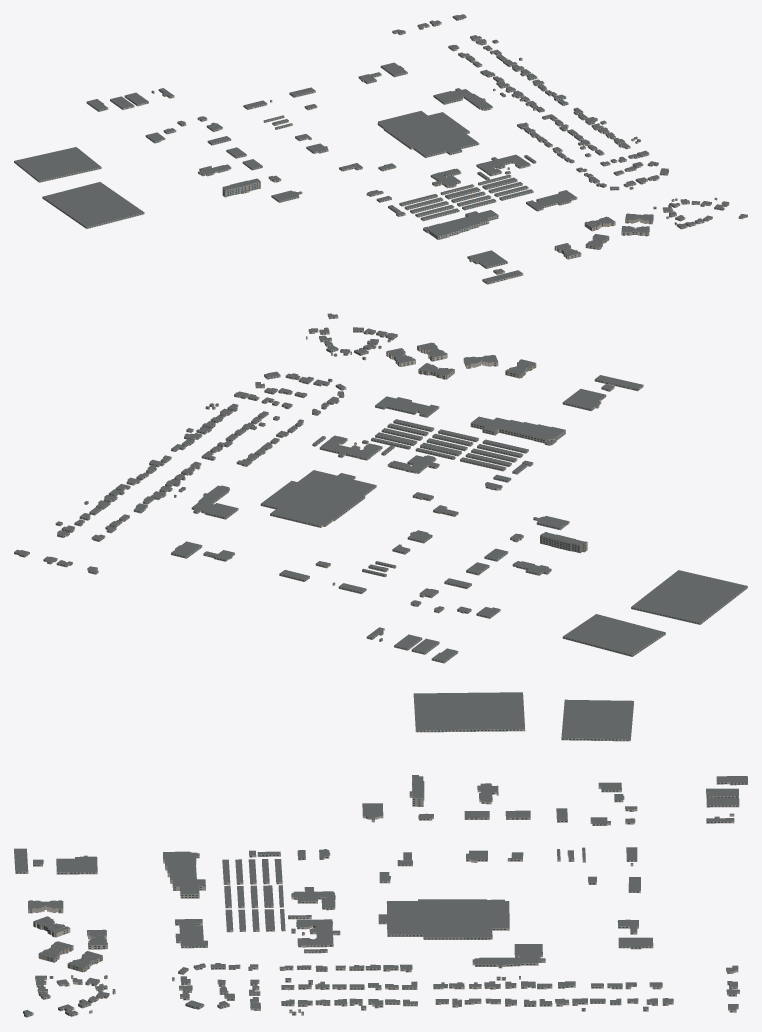
3 views of the same model, one above another, from view 1: azimuth 30°, elevation 25°; view 2: azimuth 150°, elevation 25°; view 3: azimuth 270°, elevation 25° (orthographic). The views are drawn at different scales.
Parts seen in each view (by area): view 1: Buildings (-1, -8) Roof membrane, Buildings (-1, -8) Masonry brick, Buildings (-1, -8) Architectural tinted glass; view 2: Buildings (-1, -8) Roof membrane, Buildings (-1, -8) Masonry brick, Buildings (-1, -8) Architectural tinted glass, Buildings (-1, -8) Metal coping; view 3: Buildings (-1, -8) Roof membrane, Buildings (-1, -8) Masonry brick, Buildings (-1, -8) Architectural tinted glass, Buildings (-1, -8) Metal coping.
Boxes of the visible parts, x1,y1,x2,y2 form: Buildings (-1, -8) Roof membrane: (14, 14, 747, 282); Buildings (-1, -8) Masonry brick: (14, 16, 747, 284); Buildings (-1, -8) Architectural tinted glass: (14, 17, 747, 283); Buildings (-1, -8) Roof membrane: (14, 313, 747, 661); Buildings (-1, -8) Masonry brick: (14, 314, 747, 663); Buildings (-1, -8) Architectural tinted glass: (14, 315, 746, 662); Buildings (-1, -8) Metal coping: (14, 313, 736, 661); Buildings (-1, -8) Roof membrane: (14, 692, 747, 1015); Buildings (-1, -8) Masonry brick: (14, 701, 747, 1017); Buildings (-1, -8) Architectural tinted glass: (15, 696, 747, 1016); Buildings (-1, -8) Metal coping: (14, 692, 747, 1015).
Bounding box in the file's own units: 1062 × 14.82 × 1026.
